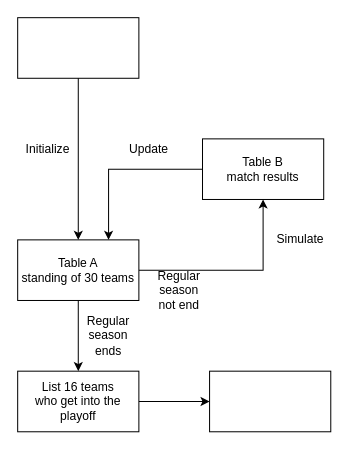
This 348x449 diagram has some shape labels left out. The shapes that lost their labels are listed below. From the top down, each one's centre as x and y in pixels, then its label:
pixel 78 47: Mid-season Raw Data in 2017-18
pixel 270 401: Tests reliablity
